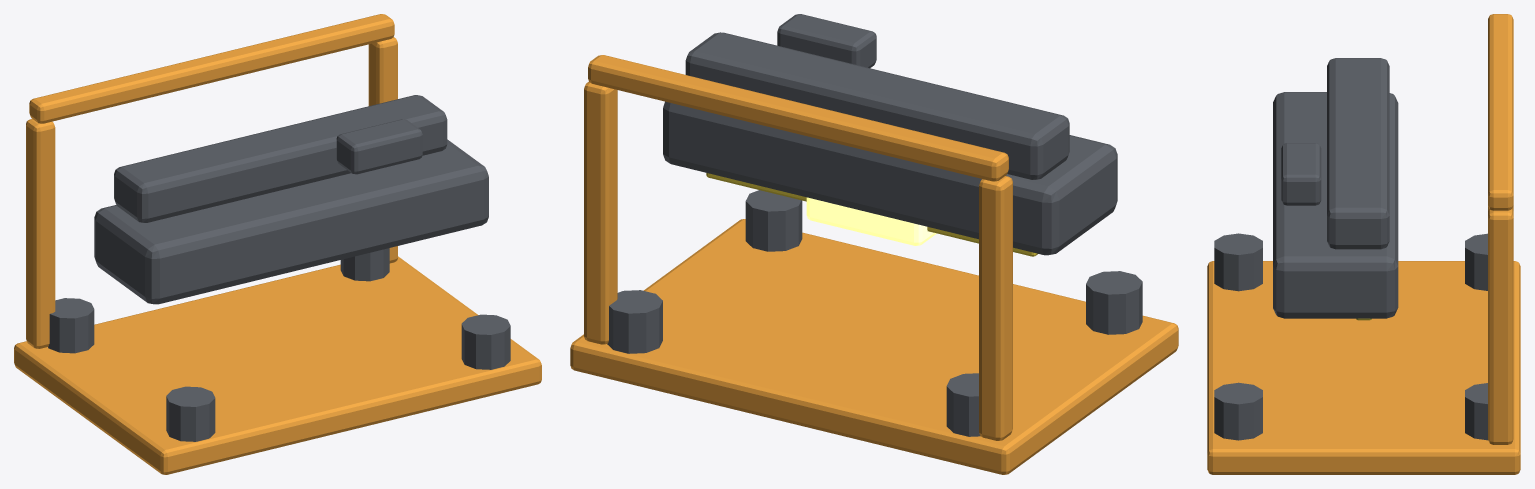
File: btf-dashboard-cart.glb
The picture shows the model from 3 angles, left to right: view 1: azimuth 30°, elevation 25°; view 2: azimuth 150°, elevation 25°; view 3: azimuth 270°, elevation 25°; orthographic projection. The views are drawn at different scales.
Parts seen in each view (by area): view 1: 140-dashboard-delivery-cart/1, 140-dashboard-delivery-cart/0; view 2: 140-dashboard-delivery-cart/1, 140-dashboard-delivery-cart/0, 140-dashboard-delivery-cart/2, 140-dashboard-delivery-cart/3; view 3: 140-dashboard-delivery-cart/1, 140-dashboard-delivery-cart/0.
Boxes of the visible parts, x1,y1,x2,y2 form: 140-dashboard-delivery-cart/1: [14, 14, 541, 474]; 140-dashboard-delivery-cart/0: [48, 95, 510, 441]; 140-dashboard-delivery-cart/1: [570, 55, 1178, 474]; 140-dashboard-delivery-cart/0: [607, 14, 1142, 436]; 140-dashboard-delivery-cart/2: [806, 197, 936, 245]; 140-dashboard-delivery-cart/3: [706, 173, 1037, 256]; 140-dashboard-delivery-cart/1: [1207, 14, 1520, 474]; 140-dashboard-delivery-cart/0: [1214, 58, 1487, 440].
Bounding box in the file's own units: 52427 × 35389 × 36042.
